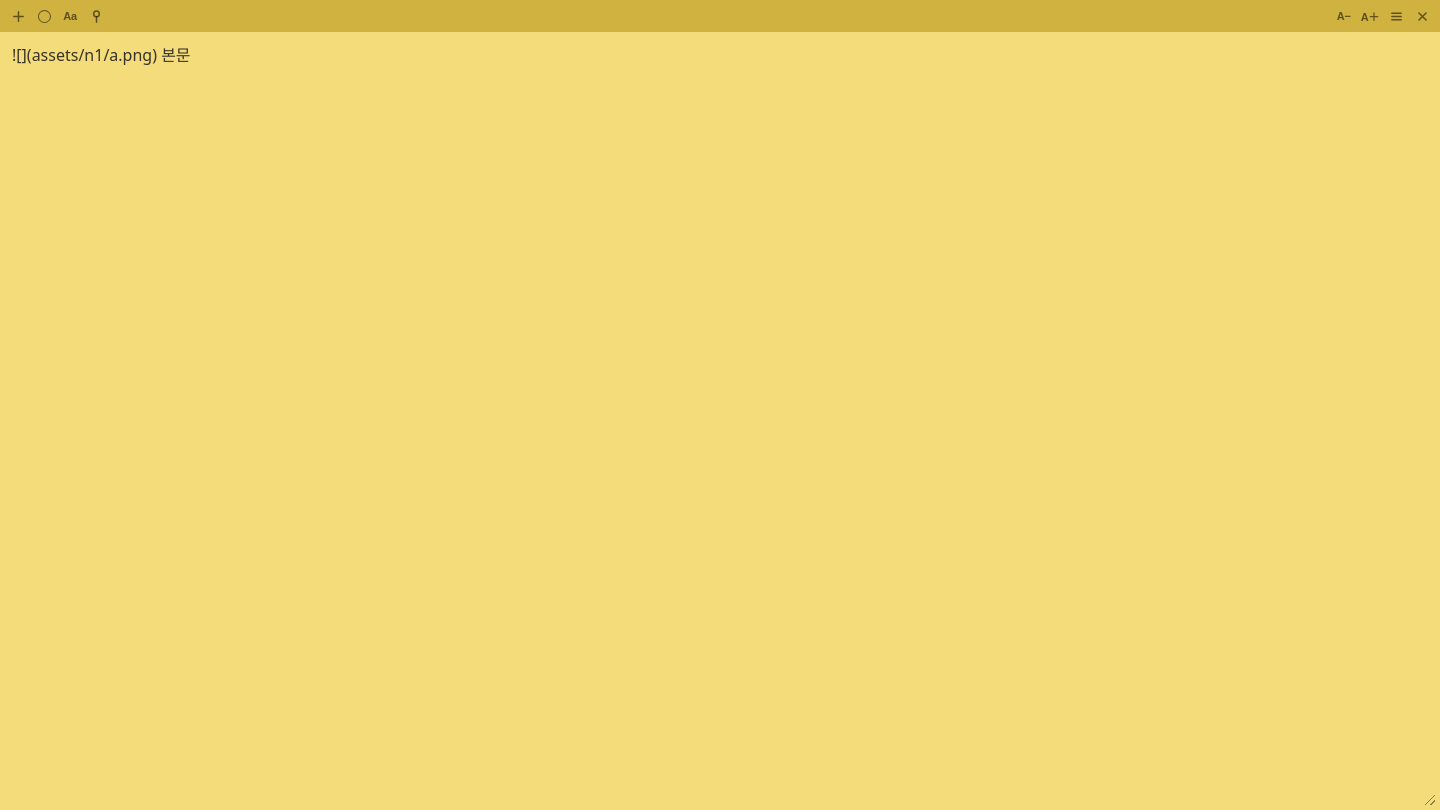
Scenario: NoteApp 공유 (#149) › 서식 복사는 이미지가 data URI로 내장된 HTML과 평문 마크다운을 함께 담는다
The image size is (1440, 810).
Click the button titled "뒷면 정보".
click(1427, 797)  # box [1414, 784, 1439, 809]
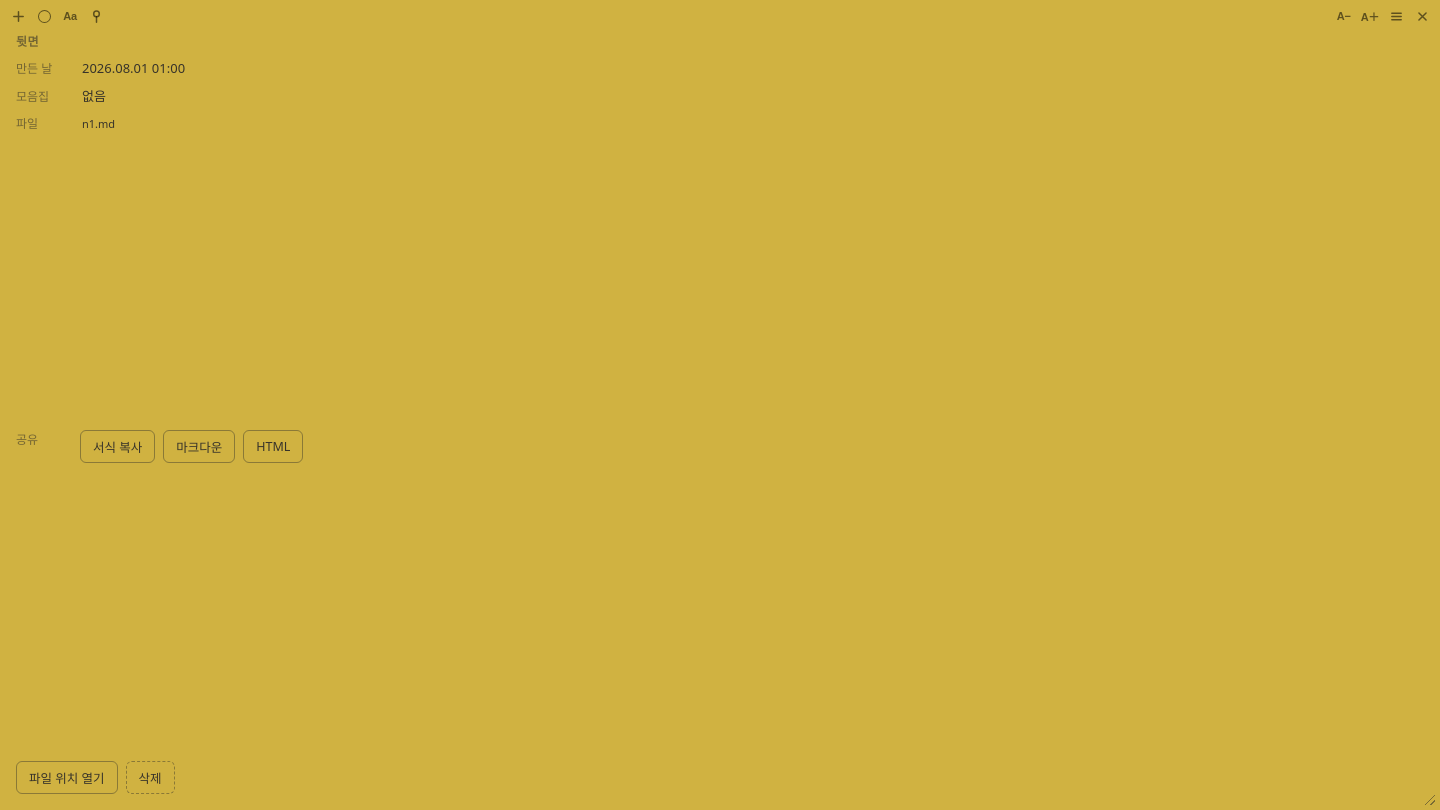
Click the button "서식 복사".
click(118, 446)  # box [80, 430, 155, 463]
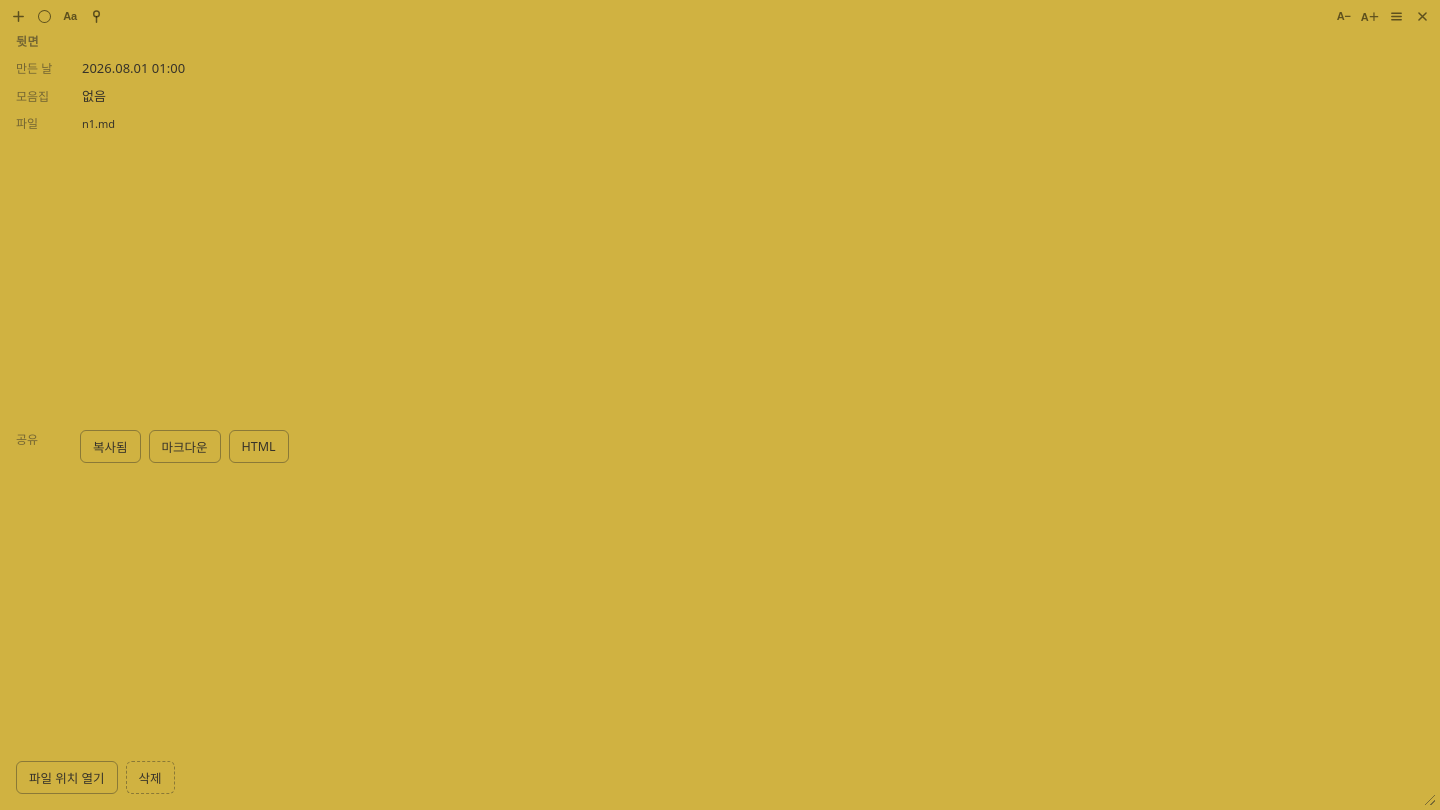
Now the button "복사됨" is shown, box [80, 430, 140, 463]
